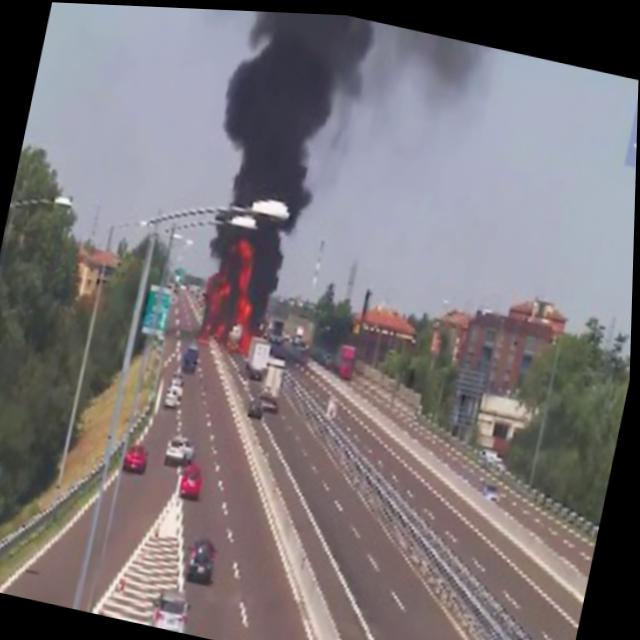fire: (188, 232, 264, 357), (237, 290, 259, 349), (200, 289, 225, 334), (237, 247, 256, 290)
smoke: (240, 8, 388, 94), (374, 20, 502, 104), (217, 68, 332, 160), (228, 143, 307, 202), (255, 222, 291, 305), (205, 7, 242, 23)
